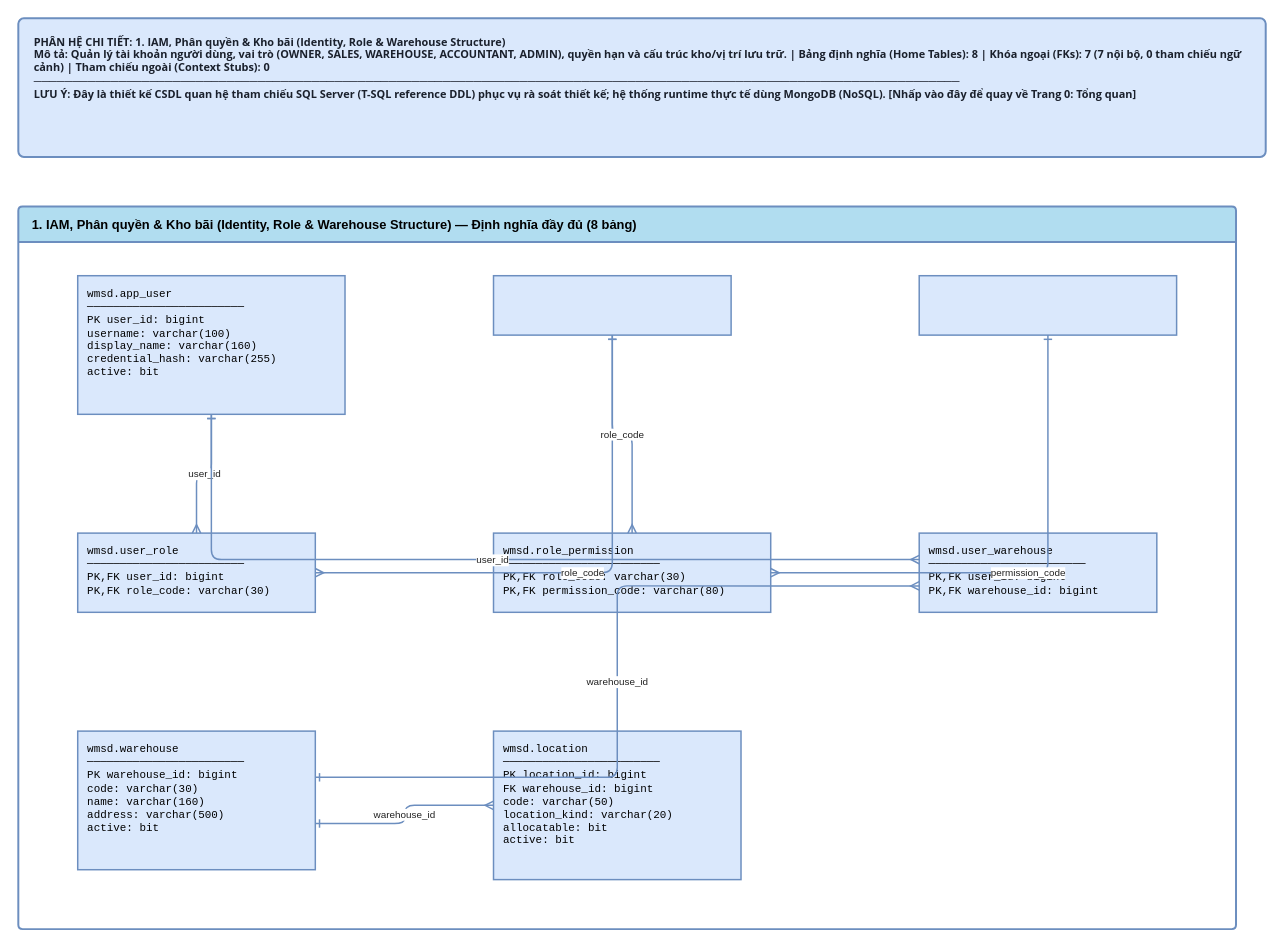
This 1283x946 diagram has some shape labels left out. Each missing label, with the centre of its shape:
wmsd.app_role ──────────────────────── PK role_code: varchar(30): point 611,305
wmsd.permission ──────────────────────── PK permission_code: varchar(80): point 1047,305
